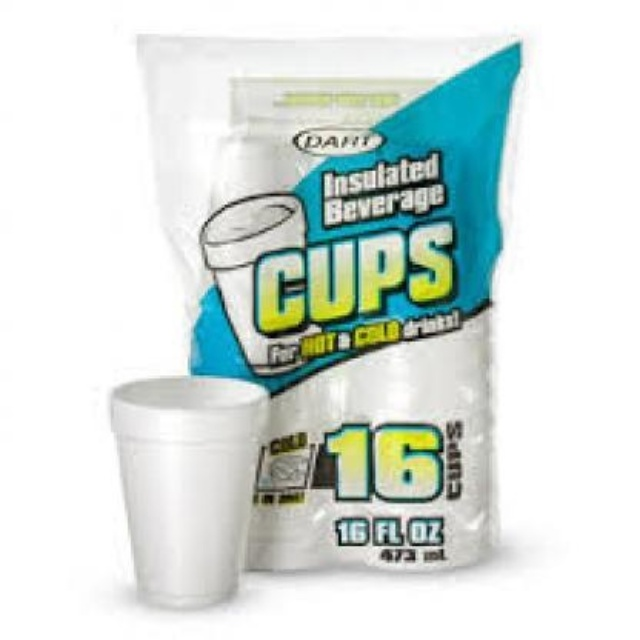trash: (138, 35, 520, 568), (111, 377, 268, 606)
